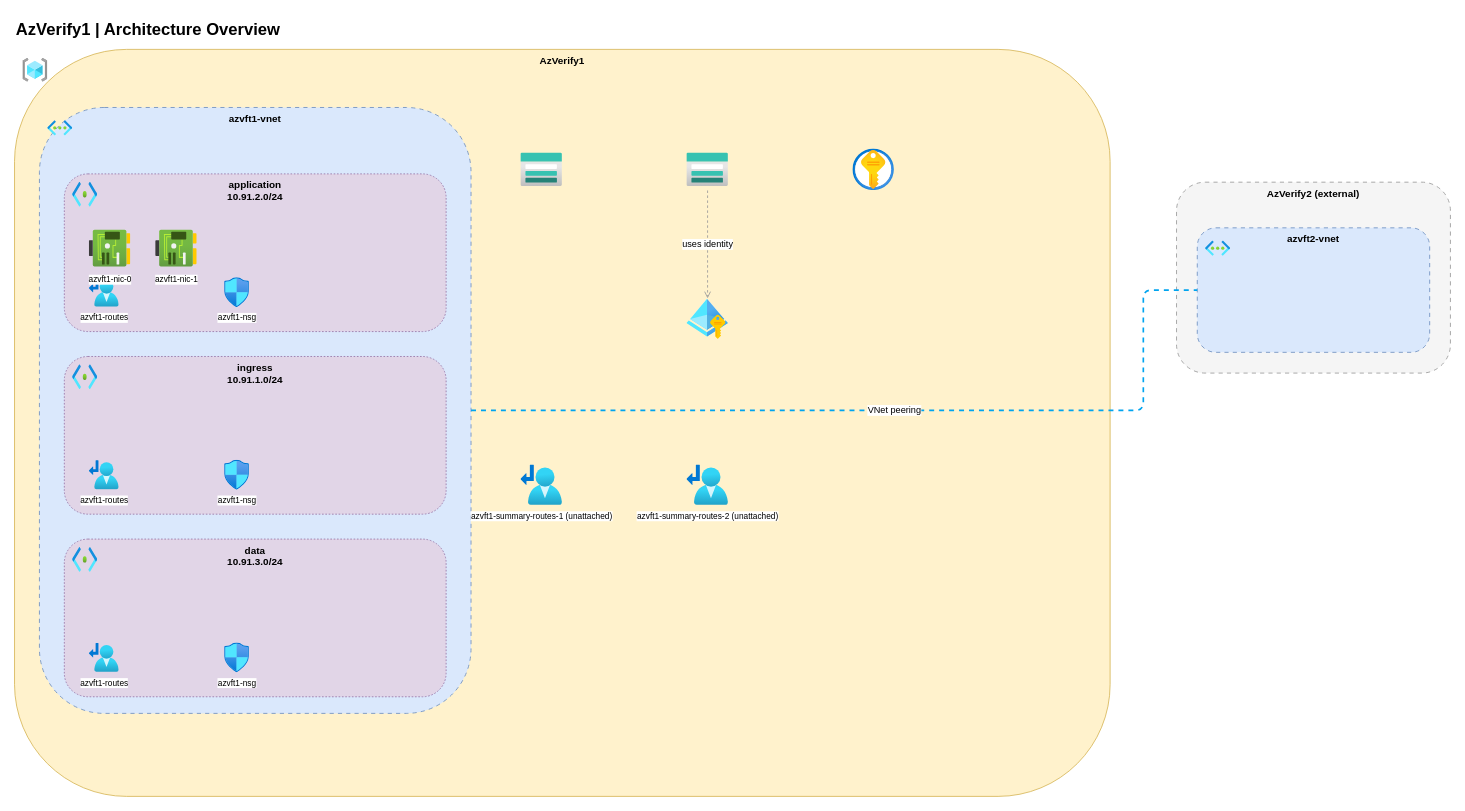
Image size: 1465x811. Some labels were removed from this diagram. Each missing label, with the centre of its shape:
azvft1-identity: [707,318]
azvft1-kv-9bd9cf0b: [873,169]
azvft19bd9cf0b: [707,169]
azvtest9bd9cf0b: [541,169]
